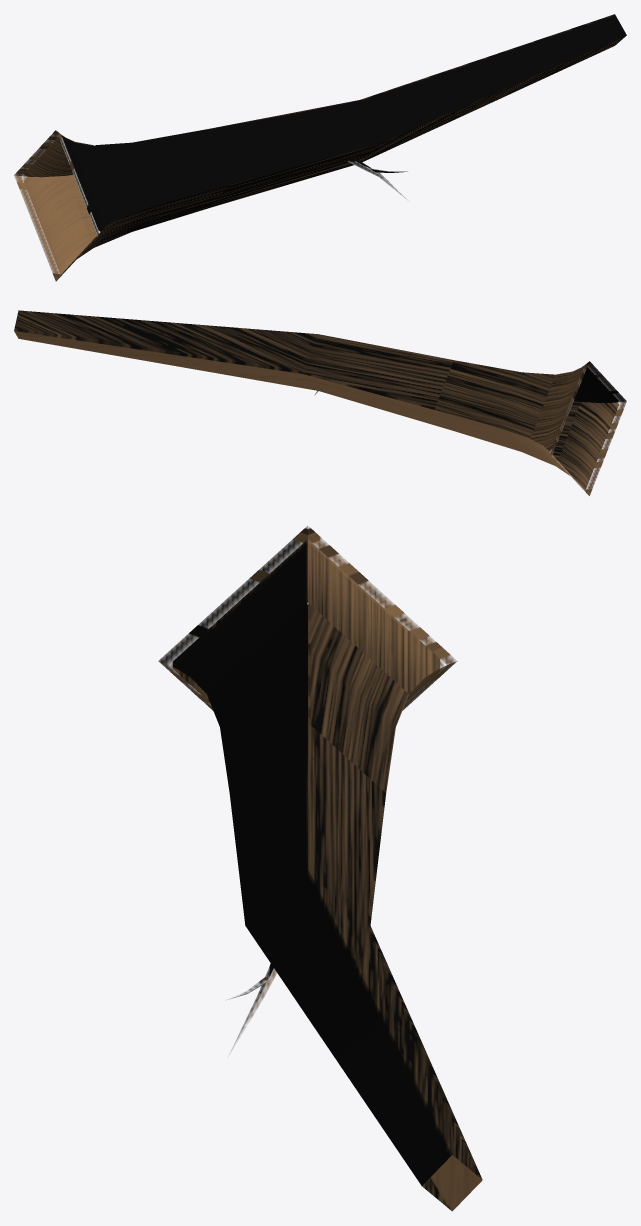
Rendered from tree2.fbx.
3 views of the same model, one above another, from view 1: azimuth 30°, elevation 25°; view 2: azimuth 150°, elevation 25°; view 3: azimuth 270°, elevation 25° (orthographic). The views are drawn at different scales.
Visible parts, largest first — view 1: Tree001; view 2: Tree001; view 3: Tree001.
Boxes of the visible parts, box(x1,y1,x2,y2) form: Tree001: box(14, 14, 626, 281); Tree001: box(14, 310, 626, 495); Tree001: box(158, 525, 482, 1211).
Bounding box in the file's own units: 849 × 222 × 205.
1 material, 1 textured.
